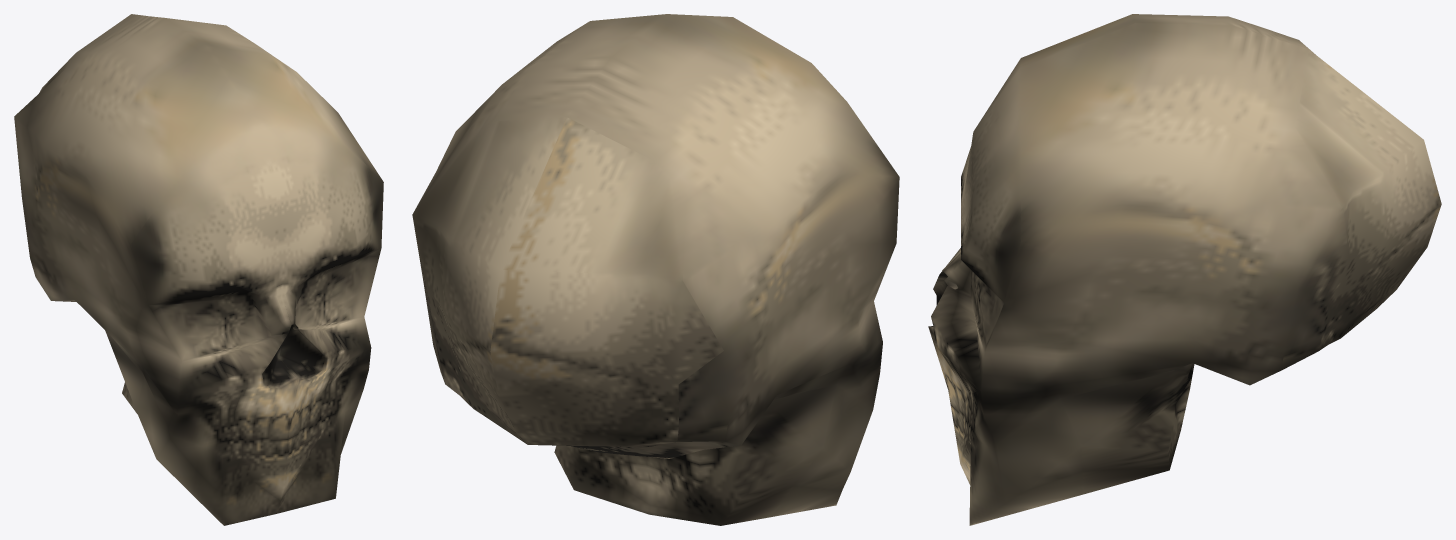
File: Skull_LowPoly.fbx
The picture shows the model from 3 angles, left to right: view 1: azimuth 30°, elevation 25°; view 2: azimuth 150°, elevation 25°; view 3: azimuth 270°, elevation 25°; orthographic projection. The views are drawn at different scales.
Parts seen in each view (by area): view 1: model:Mesh; view 2: model:Mesh; view 3: model:Mesh.
Boxes of the visible parts, x1=… form: model:Mesh: x1=14, y1=14, x2=383, y2=525; model:Mesh: x1=412, y1=14, x2=899, y2=525; model:Mesh: x1=928, y1=14, x2=1441, y2=525.
Size of the model in its own units: 0.5034 by 0.792 by 0.775.
